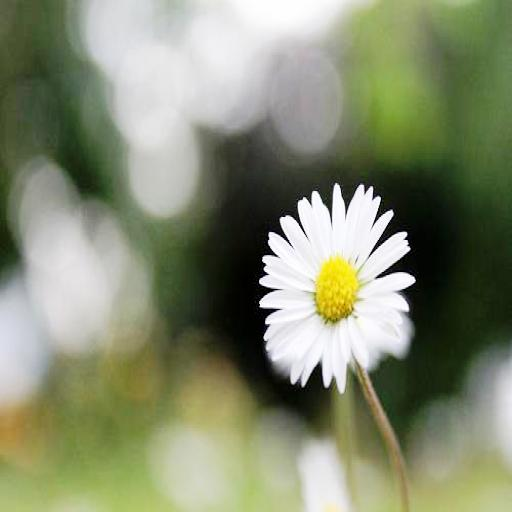daisy: (258, 191, 414, 381)
